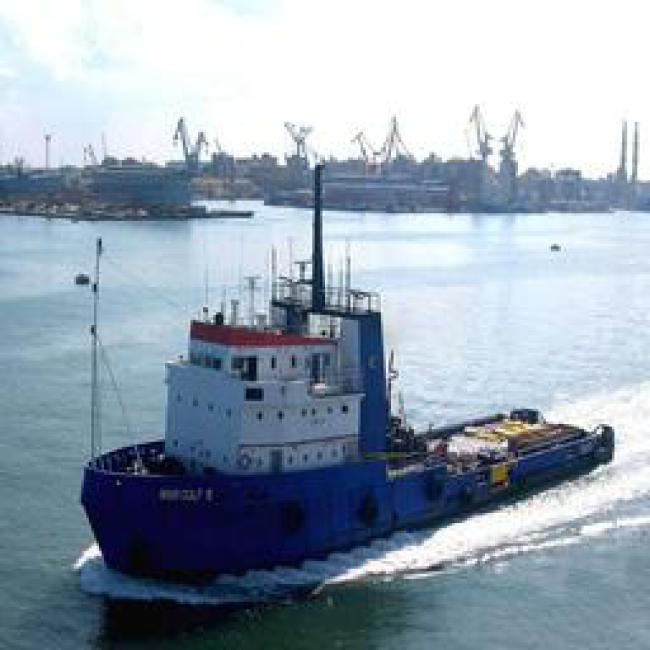Ship: (64, 301, 621, 576)
